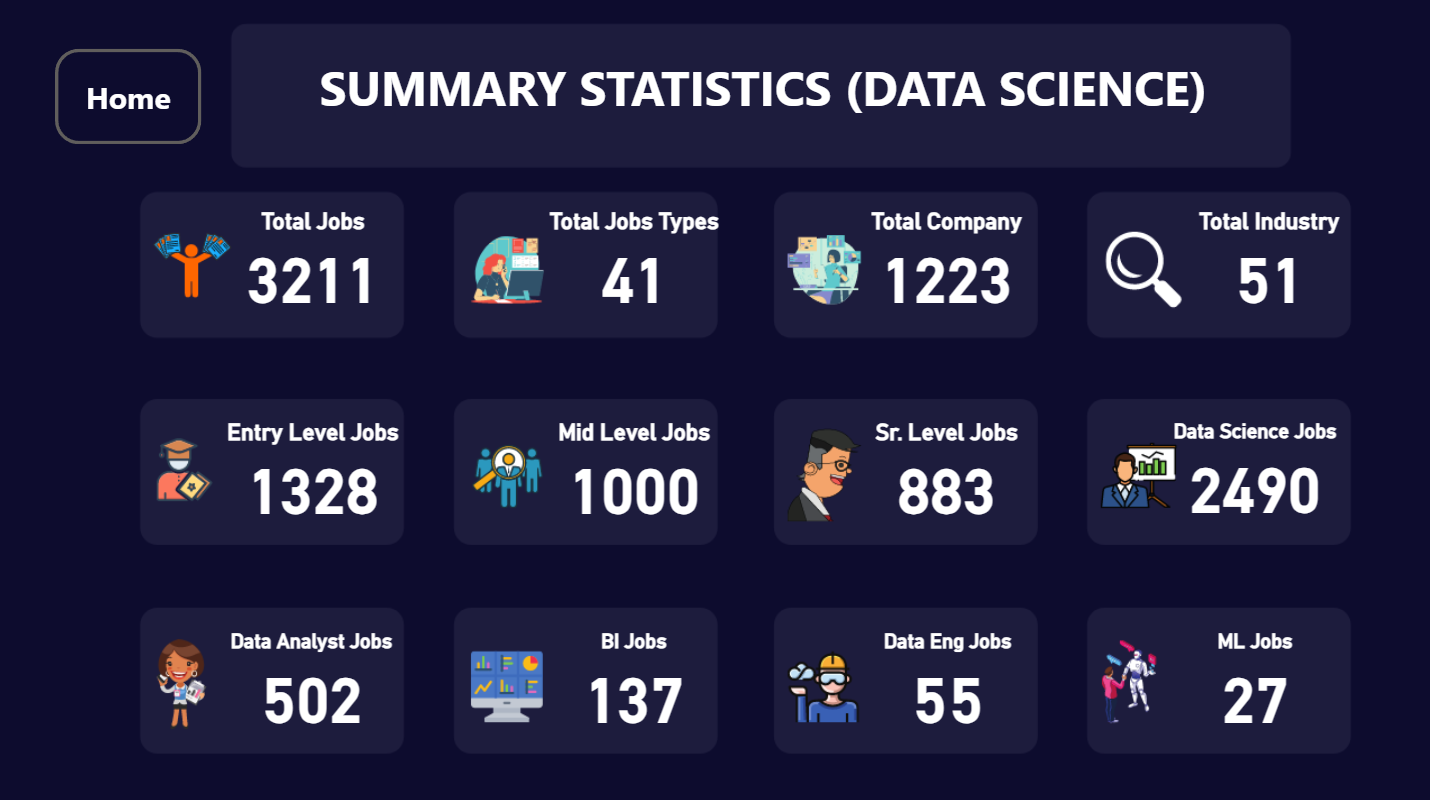

The dashboard page shown, as its layout file describes it:
{"tool":"powerbi","page":{"name":"Statistics ","canvas":[1280,720],"ordinal":2},"visuals":[{"type":"textbox","box":[211.3,48,945.5,90.6],"z":0},{"type":"card","title":"Total Jobs","fields":{"Values":["Measues 1.total_jobs"]},"box":[197.6,189.4,170.2,93.3],"z":1},{"type":"card","title":"Total Jobs Types","fields":{"Values":["Count(dc_jobs.Job Type)"]},"box":[484.4,189.4,170.2,93.3],"z":2},{"type":"card","title":"Entry Level Jobs","fields":{"Values":["CountNonNull(dc_jobs.Career Level)"]},"box":[197.6,377.4,170.2,93.3],"z":4},{"type":"card","title":"Data Science Jobs","fields":{"Values":["CountNonNull(dc_jobs.Search Term)"]},"box":[1023.7,377.4,196.2,93.3],"z":7},{"type":"card","title":"Total Company","fields":{"Values":["Count(dc_jobs.Company)"]},"box":[763,189.4,170.2,93.3],"z":8},{"type":"card","title":"Total Industry","fields":{"Values":["Count(dc_jobs.Industry)"]},"box":[1049.7,189.4,170.2,93.3],"z":9},{"type":"card","title":"Sr. Level Jobs","fields":{"Values":["CountNonNull(dc_jobs.Career Level)"]},"box":[763,377.4,170.2,93.3],"z":13},{"type":"card","title":"Mid Level Jobs","fields":{"Values":["CountNonNull(dc_jobs.Career Level)"]},"box":[484.4,377.4,170.2,93.3],"z":14},{"type":"card","title":"Data Eng Jobs","fields":{"Values":["CountNonNull(dc_jobs.Search Term)"]},"box":[750.6,564,196.2,93.3],"z":15},{"type":"card","title":"BI Jobs","fields":{"Values":["CountNonNull(dc_jobs.Search Term)"]},"box":[470.7,564,196.2,93.3],"z":16},{"type":"card","title":"Data Analyst Jobs","fields":{"Values":["CountNonNull(dc_jobs.Search Term)"]},"box":[183.9,564,196.2,93.3],"z":17},{"type":"card","title":"ML Jobs","fields":{"Values":["CountNonNull(dc_jobs.Search Term)"]},"box":[1023.7,564,196.2,93.3],"z":18},{"type":"actionButton","box":[53.5,48,130.4,85.1],"z":19}]}

Visuals, with their boxes in screenshot pixels (x1, y1, x2, y2), scaled from the page's 1280x720 canvas onto the 1430x800 screenshot:
textbox: rect(236, 53, 1292, 154)
"Total Jobs" card: rect(221, 210, 411, 314)
"Total Jobs Types" card: rect(541, 210, 731, 314)
"Entry Level Jobs" card: rect(221, 419, 411, 523)
"Data Science Jobs" card: rect(1144, 419, 1363, 523)
"Total Company" card: rect(852, 210, 1043, 314)
"Total Industry" card: rect(1173, 210, 1363, 314)
"Sr. Level Jobs" card: rect(852, 419, 1043, 523)
"Mid Level Jobs" card: rect(541, 419, 731, 523)
"Data Eng Jobs" card: rect(839, 627, 1058, 730)
"BI Jobs" card: rect(526, 627, 745, 730)
"Data Analyst Jobs" card: rect(205, 627, 425, 730)
"ML Jobs" card: rect(1144, 627, 1363, 730)
actionButton: rect(60, 53, 205, 148)
